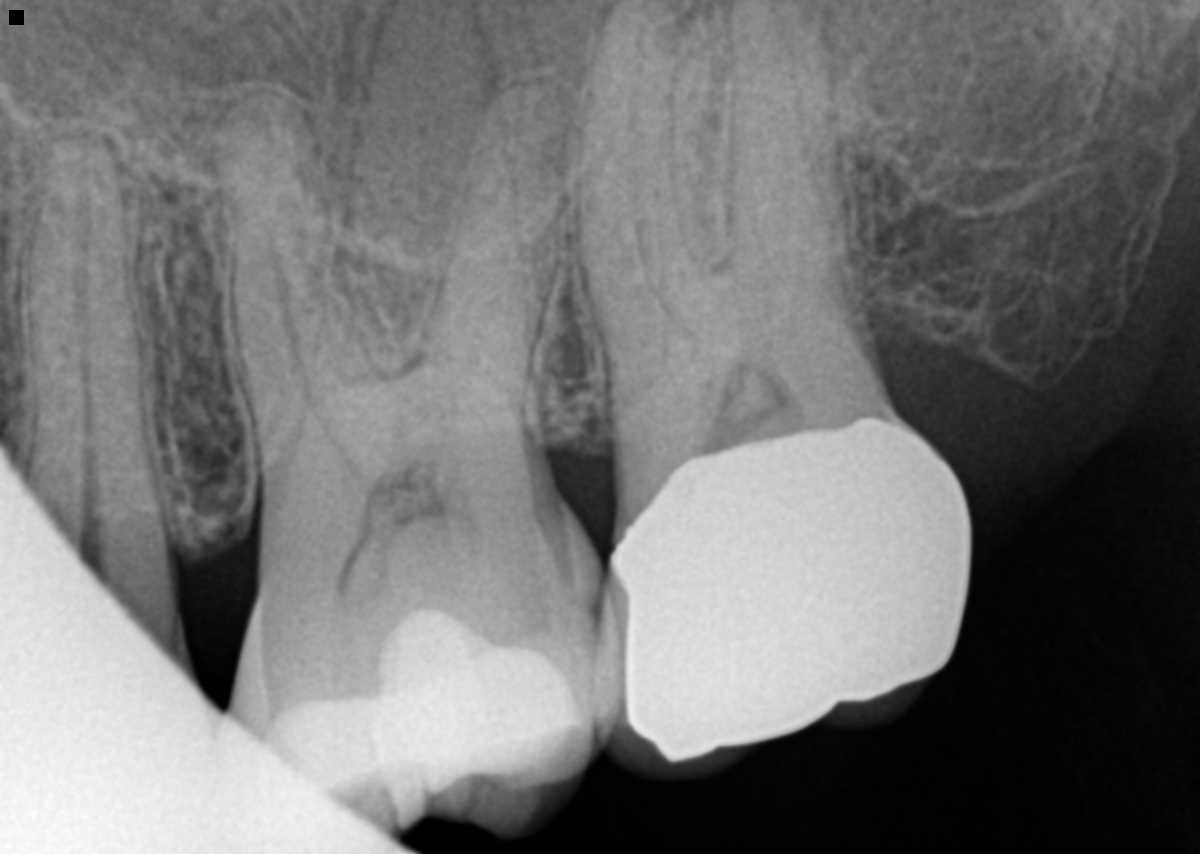Distal Root: (413, 72, 583, 416), (724, 0, 870, 308)
Main Canal: (77, 160, 106, 528)
Main Root: (16, 135, 176, 561)
Mesial Canal: (267, 222, 380, 496), (627, 26, 698, 352)
Mesial Root: (214, 95, 391, 453), (578, 2, 709, 353)
Palatal Root: (266, 0, 534, 580)
